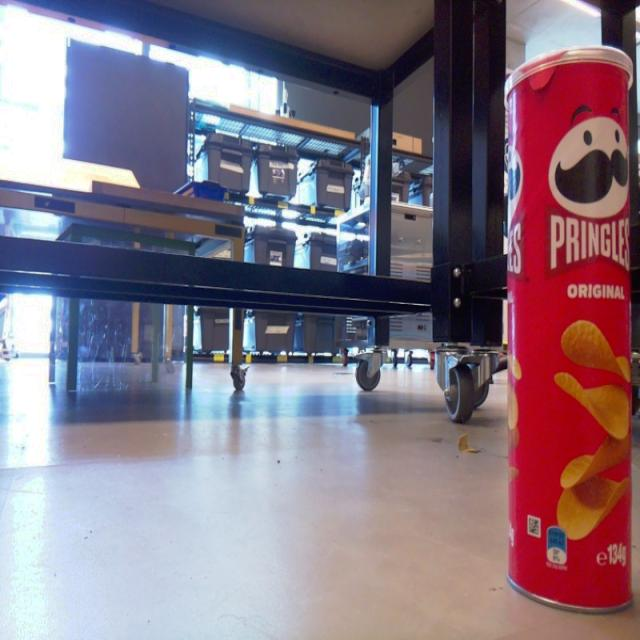redpringles: (490, 48, 640, 620)
